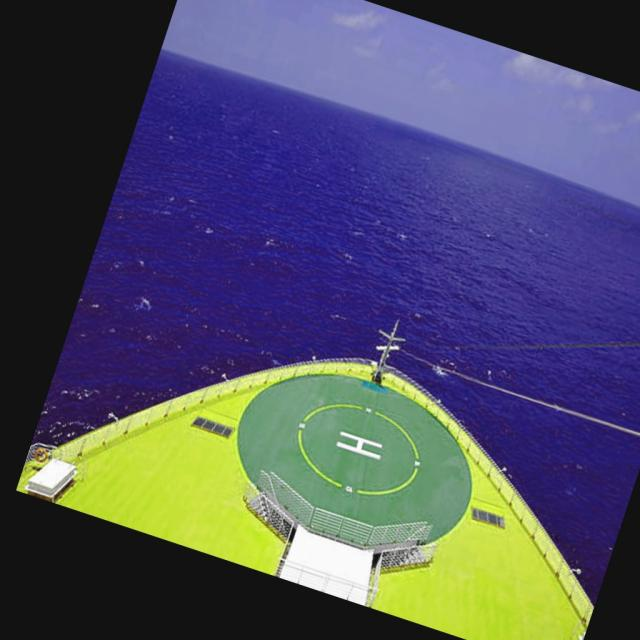helipad: (292, 398, 421, 498)
